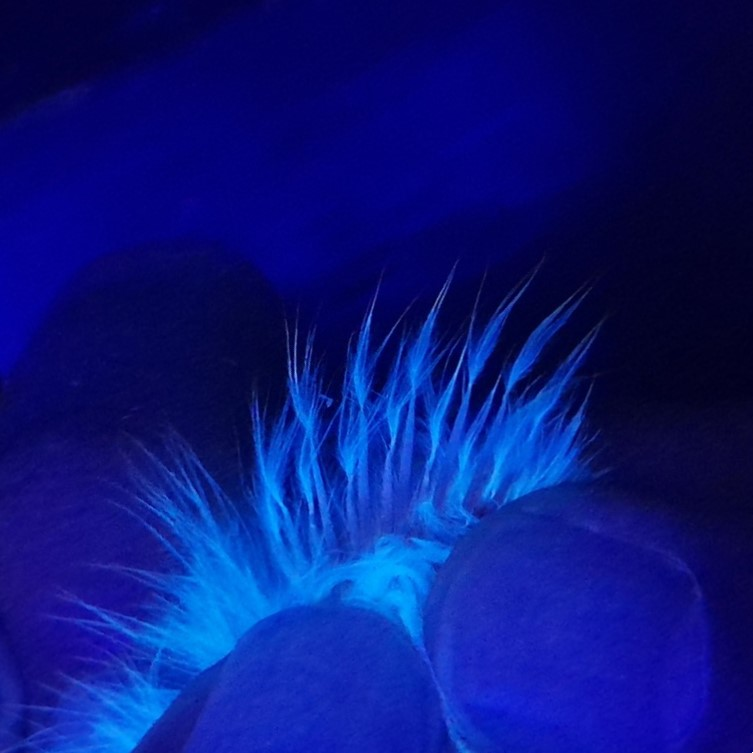male: (237, 369, 558, 592)
